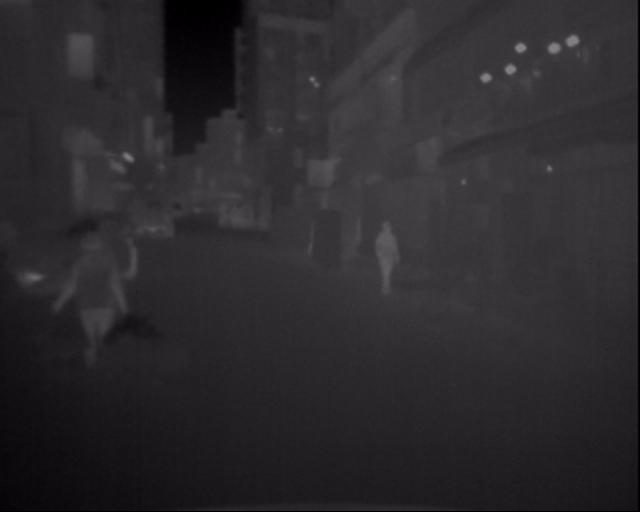person: (53, 238, 110, 409), (370, 218, 397, 285)
